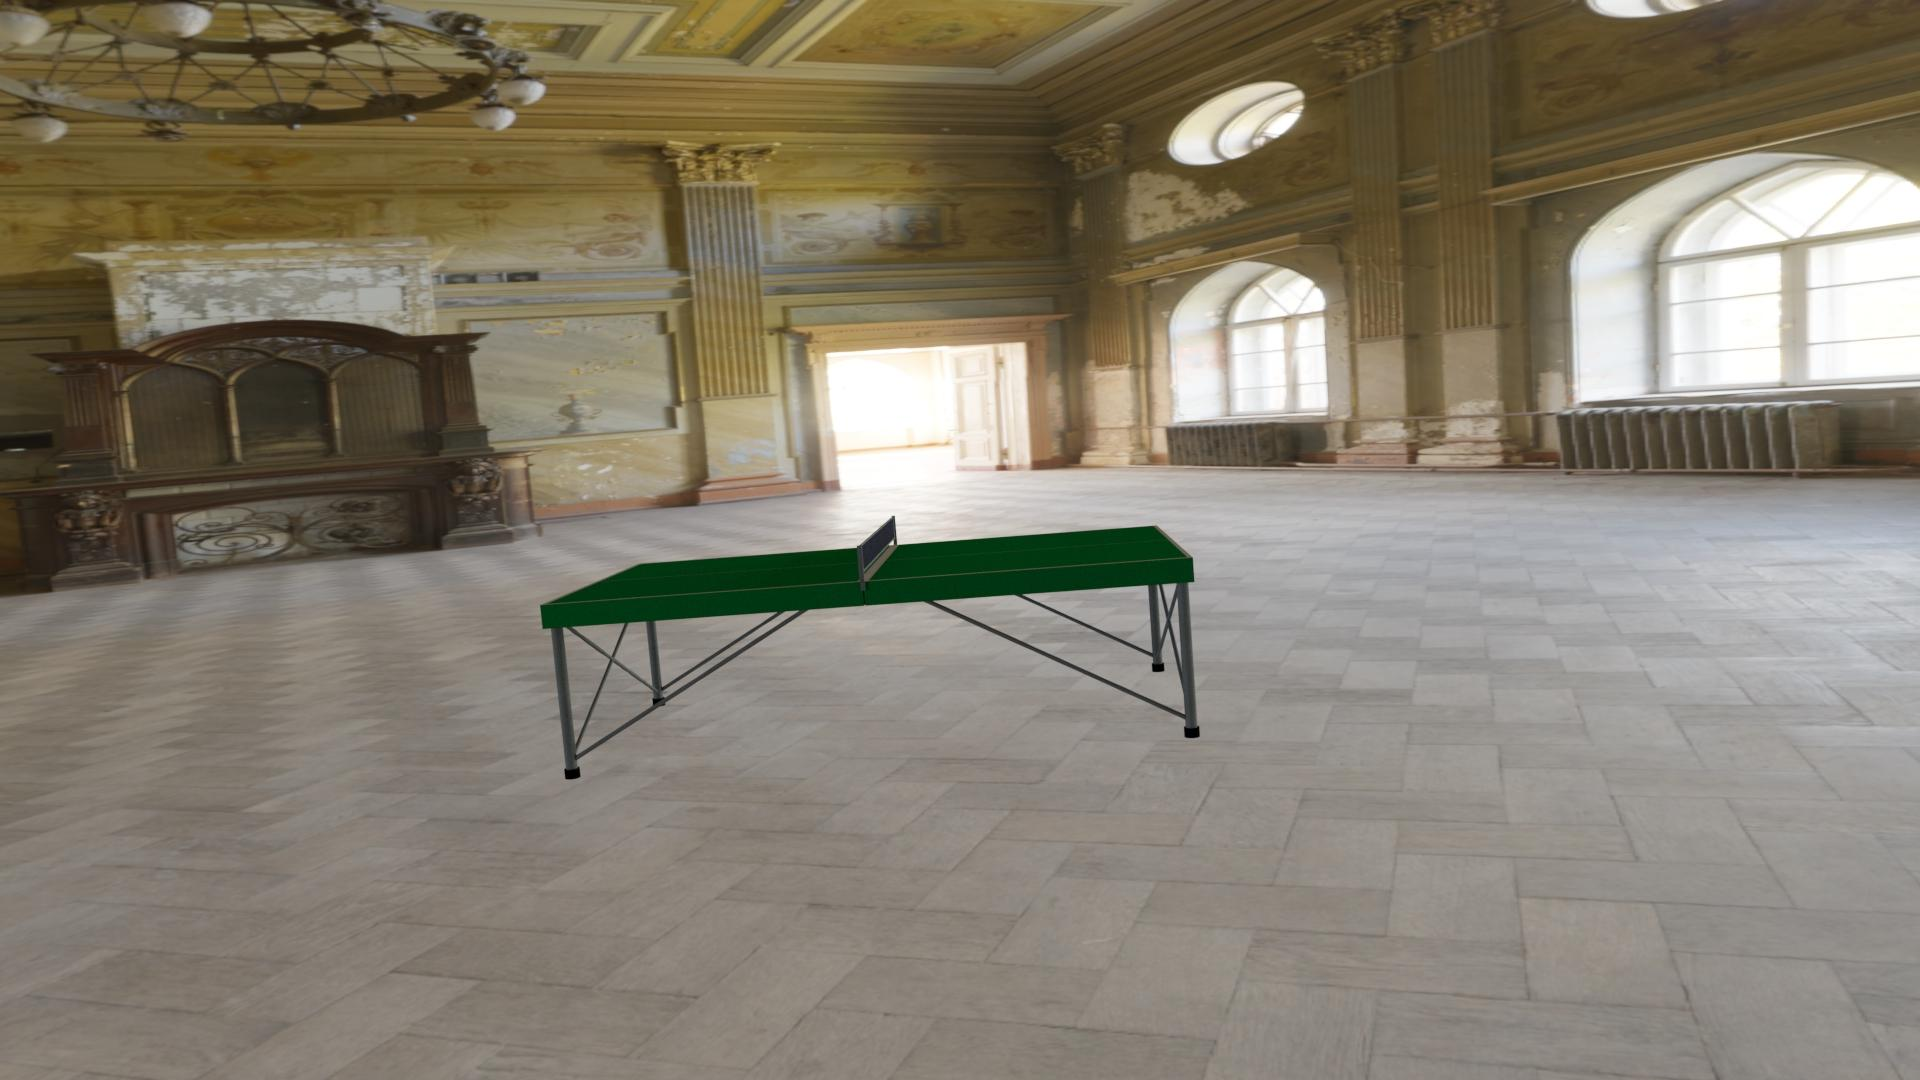table: (546, 526, 1188, 604)
